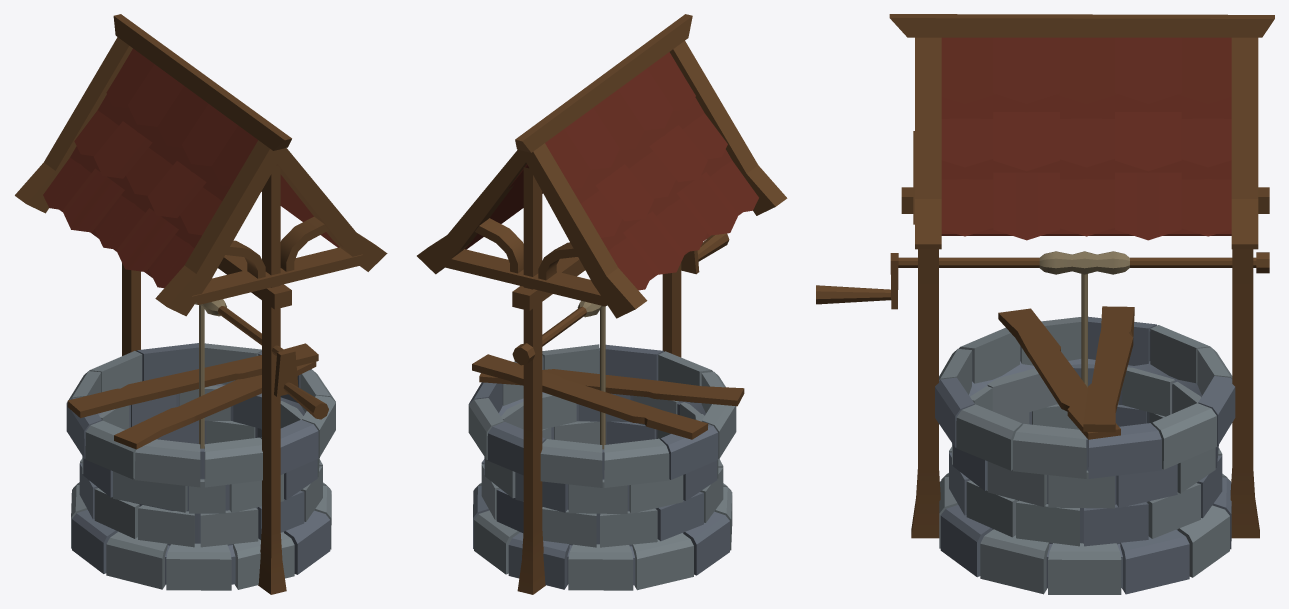
The model's file is Well.glb.
The picture shows the model from 3 angles, left to right: view 1: azimuth 30°, elevation 25°; view 2: azimuth 150°, elevation 25°; view 3: azimuth 270°, elevation 25°; orthographic projection. The views are drawn at different scales.
Parts seen in each view (by area): view 1: Well; view 2: Well; view 3: Well.
Part boxes in pixels (bbox=[...]): Well: bbox=[15, 14, 387, 594]; Well: bbox=[417, 14, 787, 594]; Well: bbox=[816, 14, 1274, 594].
Size of the model in its own units: 0.6664 by 1.25 by 1.
Materials: 1 (1 with a texture image).
